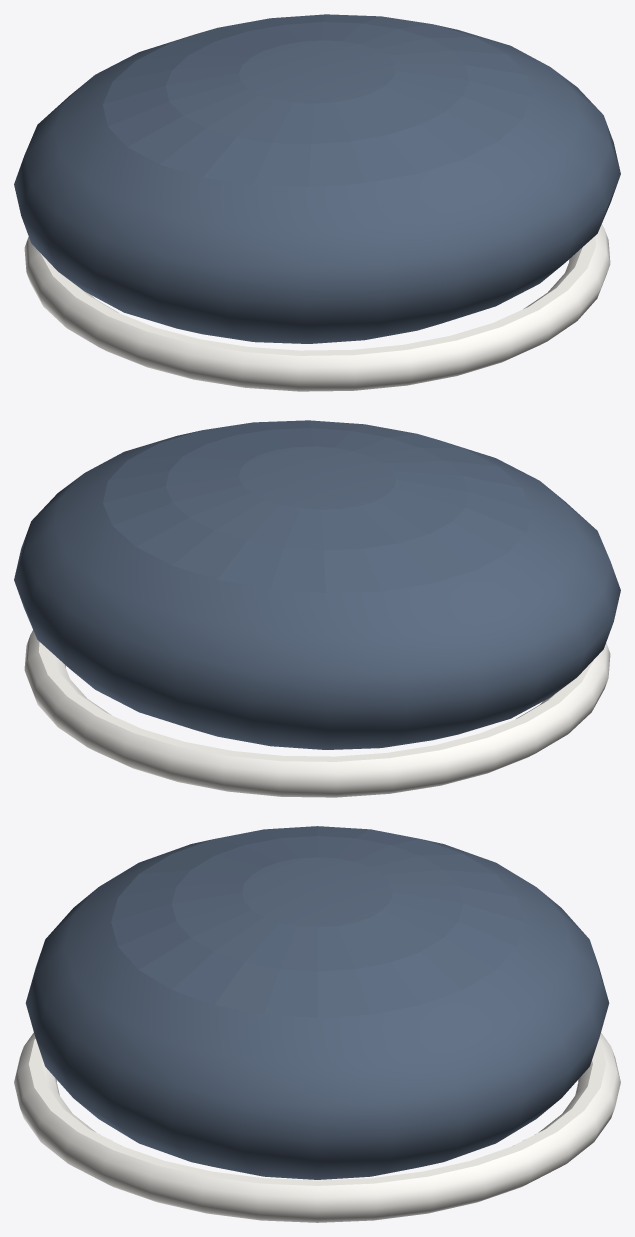
The model's file is Bottom_Puffy.fbx.
3 views of the same model, one above another, from view 1: azimuth 30°, elevation 25°; view 2: azimuth 150°, elevation 25°; view 3: azimuth 270°, elevation 25° (orthographic). The views are drawn at different scales.
Parts seen in each view (by area): view 1: Puffy_Skirt, Puffy_Frill; view 2: Puffy_Skirt, Puffy_Frill; view 3: Puffy_Skirt, Puffy_Frill.
Part boxes in pixels (x1,y1,x2,y2): Puffy_Skirt: (14,14,620,343); Puffy_Frill: (24,224,610,391); Puffy_Skirt: (14,420,620,749); Puffy_Frill: (24,630,610,797); Puffy_Skirt: (25,826,609,1179); Puffy_Frill: (14,1032,620,1222).
Bounding box in the file's own units: 66 × 26 × 62.4.
